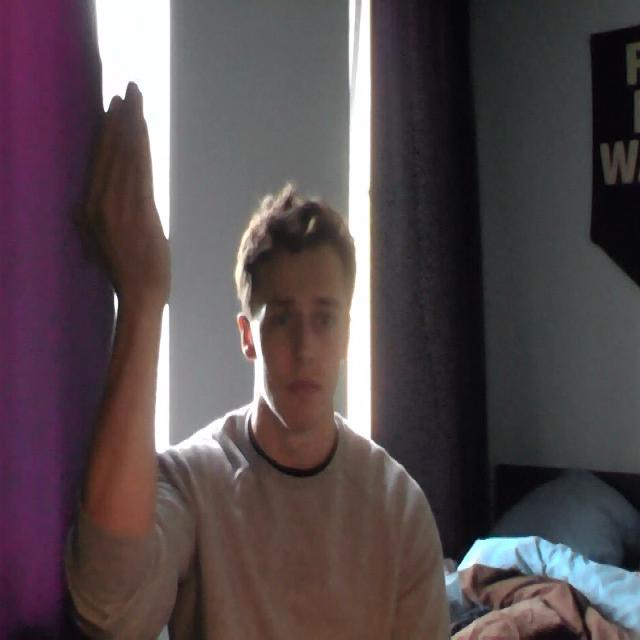forward: (65, 79, 196, 310)
